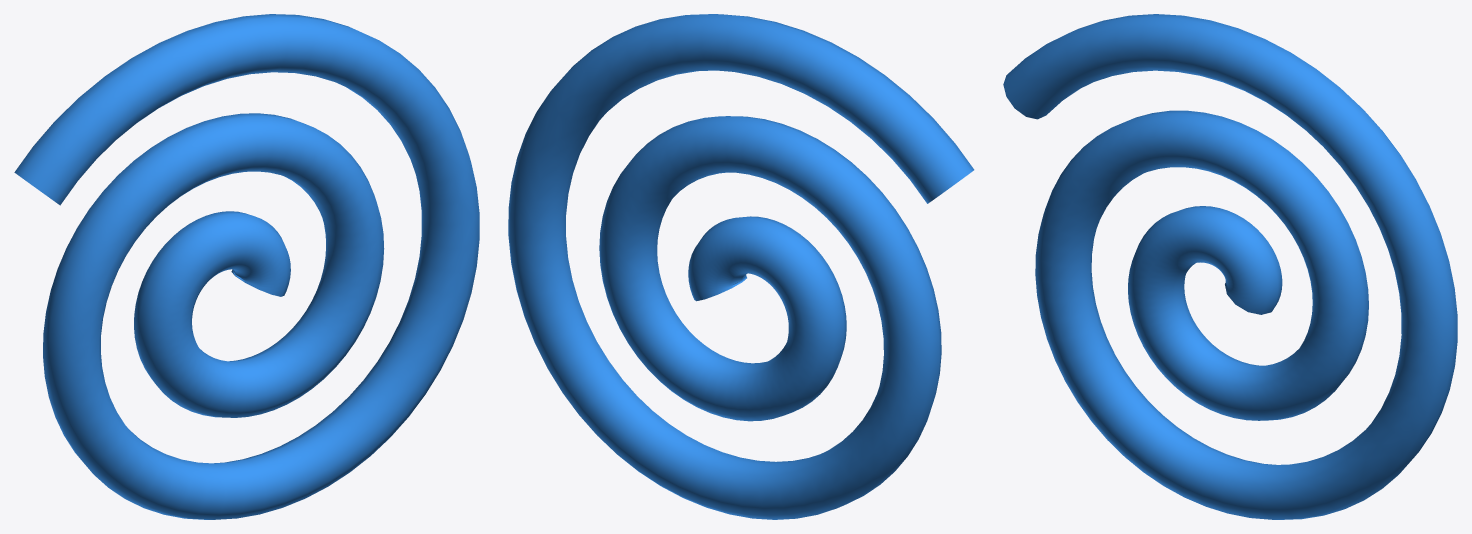
File: SM_Scramble.fbx
The picture shows the model from 3 angles, left to right: view 1: azimuth 30°, elevation 25°; view 2: azimuth 150°, elevation 25°; view 3: azimuth 330°, elevation 25°; orthographic projection. The views are drawn at different scales.
Parts seen in each view (by area): view 1: SM_Scramble; view 2: SM_Scramble; view 3: SM_Scramble.
Part boxes in pixels (bbox=[...]): SM_Scramble: bbox=[14, 14, 479, 519]; SM_Scramble: bbox=[508, 14, 974, 519]; SM_Scramble: bbox=[1003, 14, 1457, 519].
Bounding box in the file's own units: 1.25 × 9.63 × 10.
